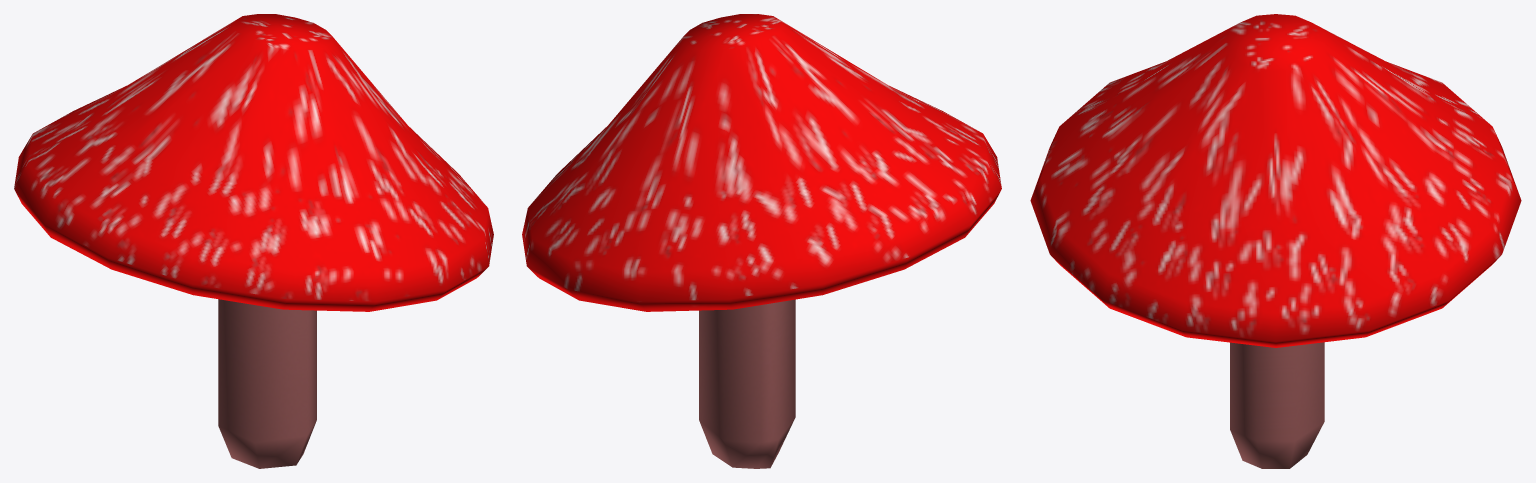
The model's file is Mushroom_1A.fbx.
3 views of the same model, side by side, from view 1: azimuth 30°, elevation 25°; view 2: azimuth 150°, elevation 25°; view 3: azimuth 270°, elevation 25° (orthographic).
Visible parts, largest first — view 1: MushRoom_1A; view 2: MushRoom_1A; view 3: MushRoom_1A.
Part boxes in pixels (x1,y1,x2,y2): MushRoom_1A: (14,14,493,468); MushRoom_1A: (522,14,1001,468); MushRoom_1A: (1030,14,1521,468).
Size of the model in its own units: 3.65 by 3.56 by 3.71.
1 material, 1 textured.
